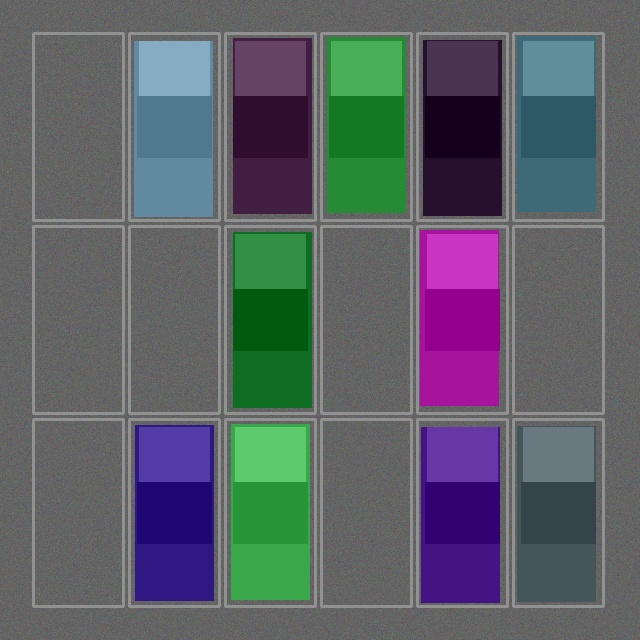space-empty: (35, 35, 121, 218), (35, 228, 121, 411), (131, 228, 217, 411), (323, 228, 409, 411), (515, 228, 601, 411), (35, 421, 121, 604), (323, 421, 409, 604)
space-occupied: (131, 35, 217, 218), (227, 35, 313, 218), (323, 35, 409, 218), (419, 35, 505, 218), (515, 35, 601, 218), (227, 228, 313, 411), (419, 228, 505, 411), (131, 421, 217, 604), (227, 421, 313, 604), (419, 421, 505, 604), (515, 421, 601, 604)
